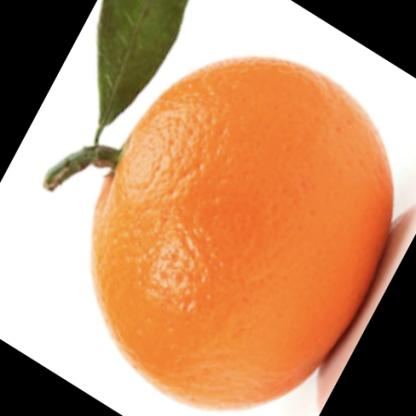fresh: (70, 54, 396, 408)
